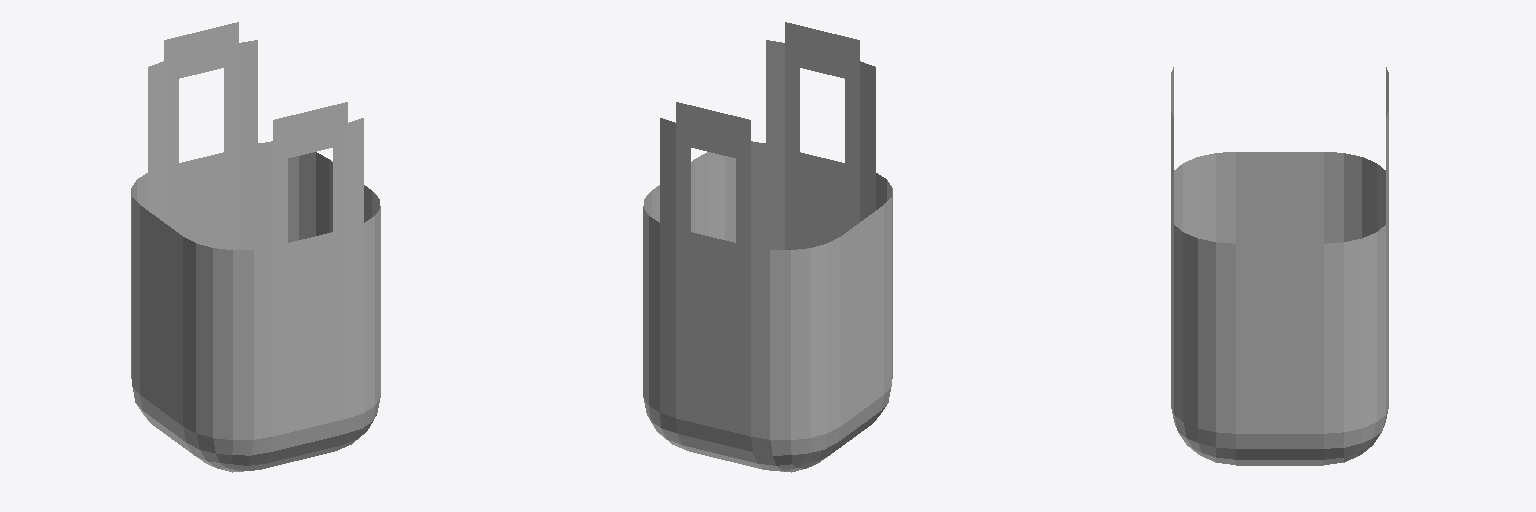
File: bag1_11.obj
3 views of the same model, side by side, from view 1: azimuth 30°, elevation 25°; view 2: azimuth 150°, elevation 25°; view 3: azimuth 270°, elevation 25° (orthographic).
Visible parts, largest first — view 1: Cube-0-1.024_Cube.139; view 2: Cube-0-1.024_Cube.139; view 3: Cube-0-1.024_Cube.139.
Boxes of the visible parts, <box> form: Cube-0-1.024_Cube.139: <box>131,22,380,472</box>; Cube-0-1.024_Cube.139: <box>643,22,892,472</box>; Cube-0-1.024_Cube.139: <box>1171,67,1388,465</box>.
Bounding box in the file's own units: 2 × 3.75 × 2.